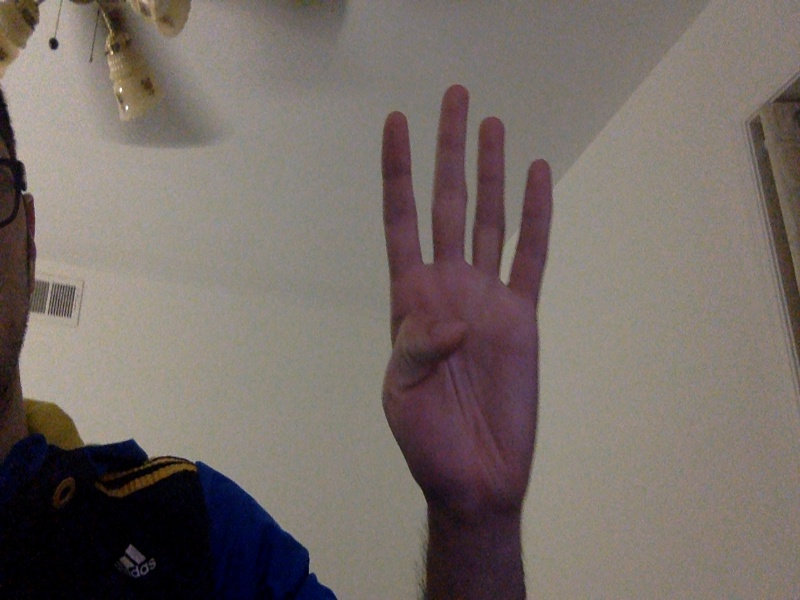4-hand: (382, 85, 556, 504)
